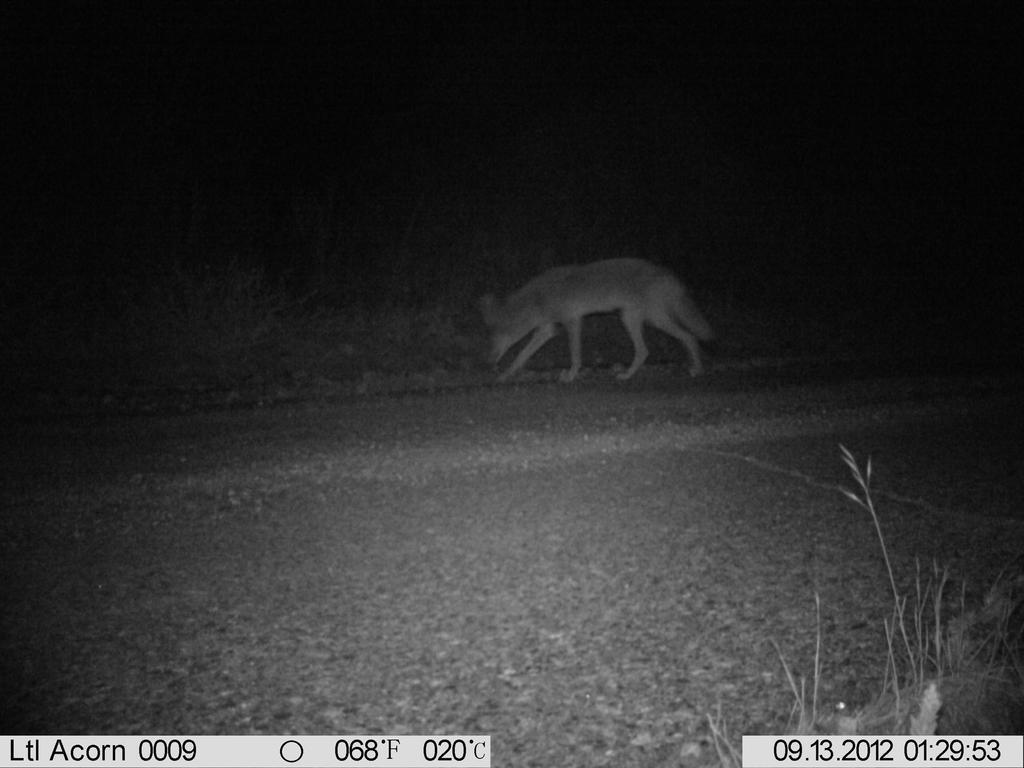coyote: (456, 261, 761, 439)
